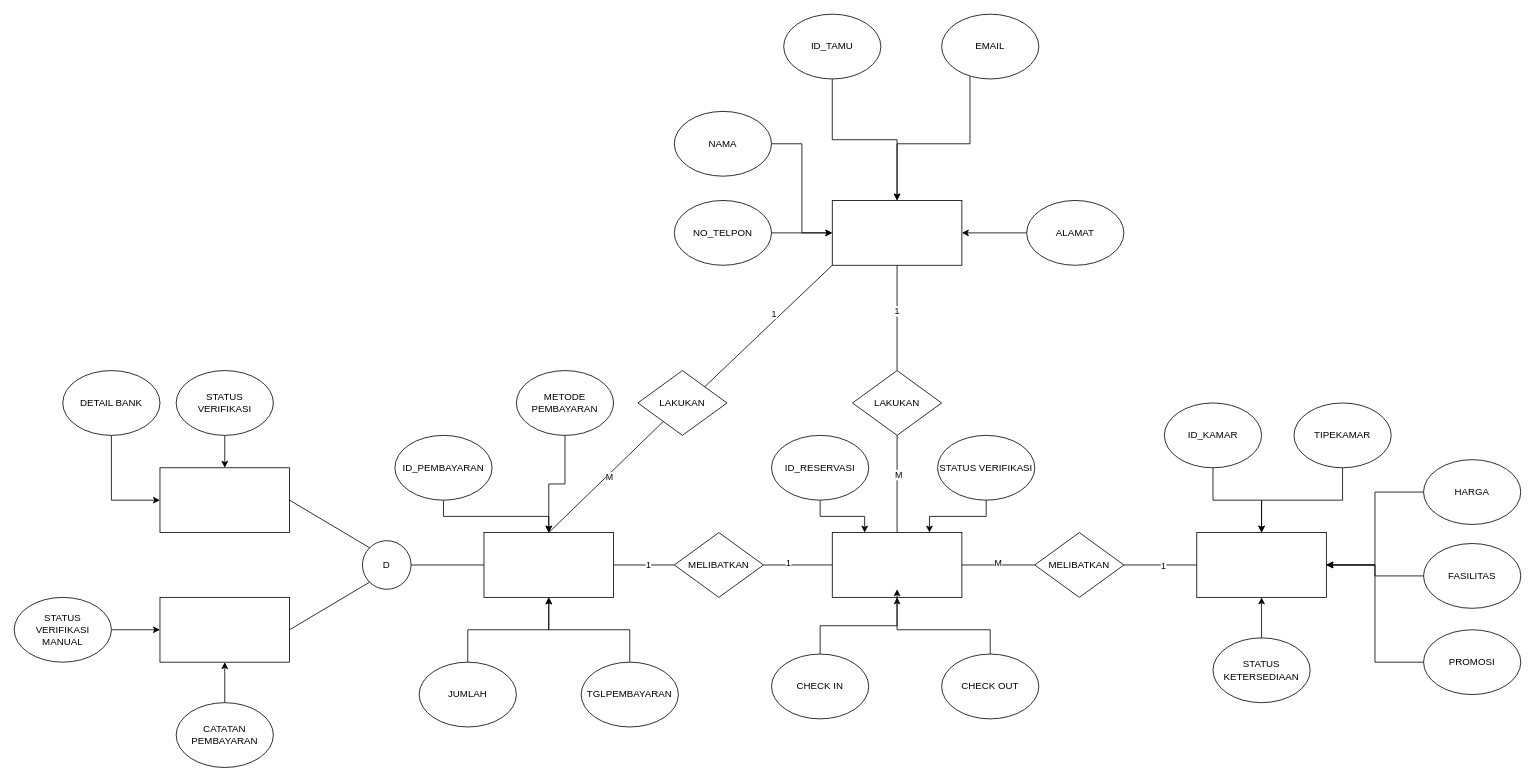
Image size: 1535x782. Some labels were removed from this diagram. Here are the shapes that lost their labels. From the top down, the box of each, then its label:
(831, 200, 962, 265): TAMU
(159, 467, 290, 533): PEMBAYARAN ONLINE
(483, 532, 614, 597): PEMBAYARAN
(831, 532, 962, 597): RESERVASI
(1196, 532, 1326, 597): KAMAR
(159, 597, 290, 662): PEMBAYARAN DI TEMPAT
